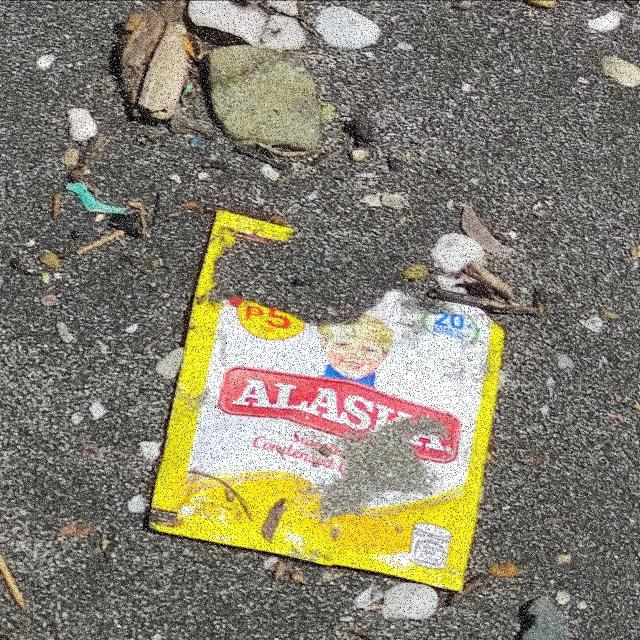plastic_waste: (141, 207, 515, 598)
